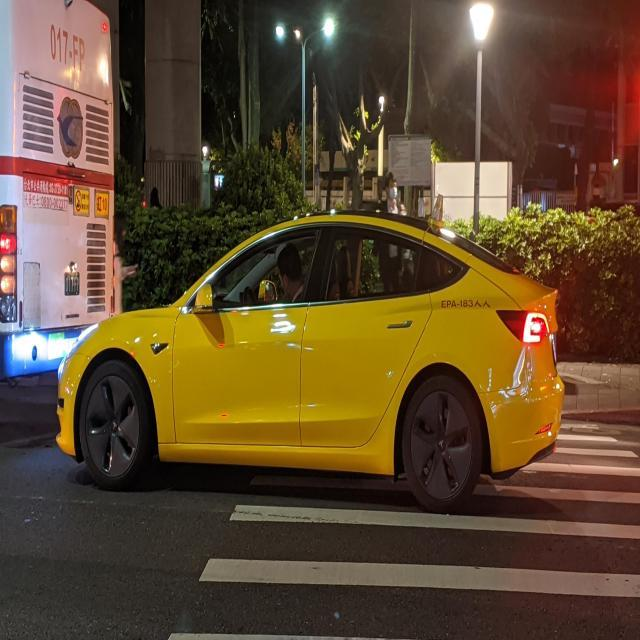taxi: (70, 190, 575, 490)
